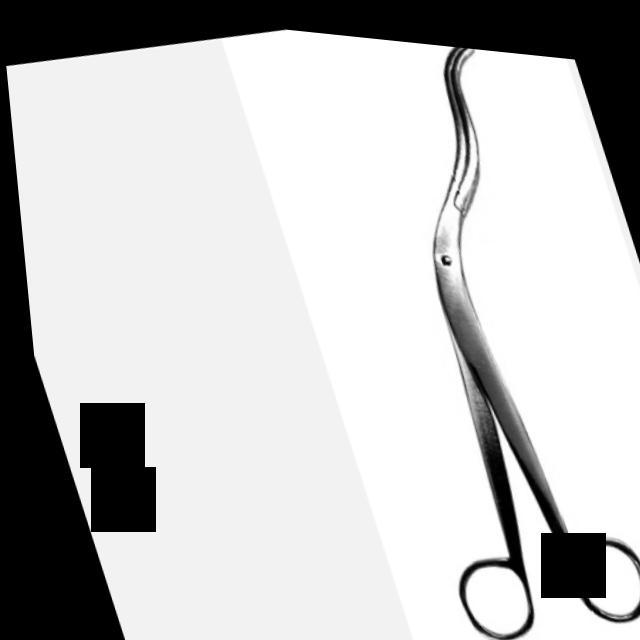Cheatle Forceps: (277, 23, 640, 640)
